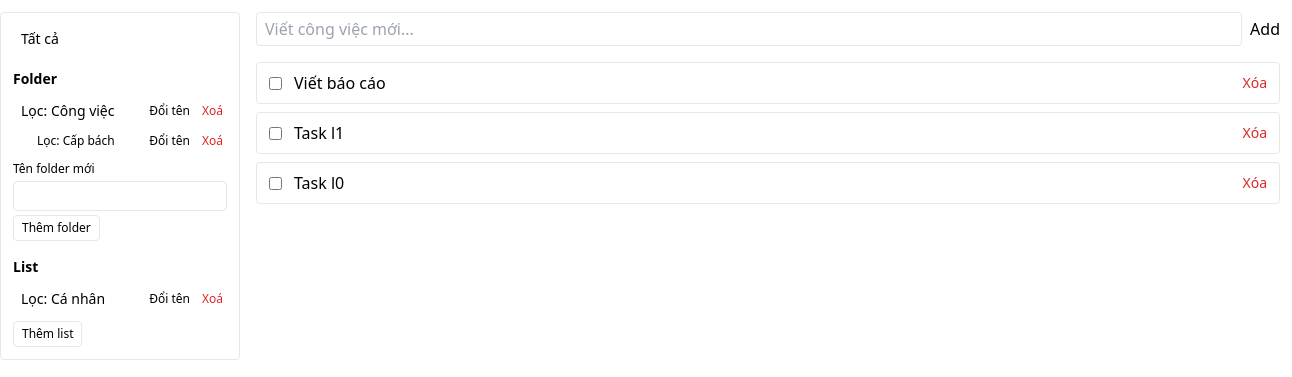
TasksWorkspace filter › bấm Tất cả trả về danh sách đầy đủ
Click the button "Lọc: Cấp bách" at point(85, 141), box [29, 129, 141, 153]
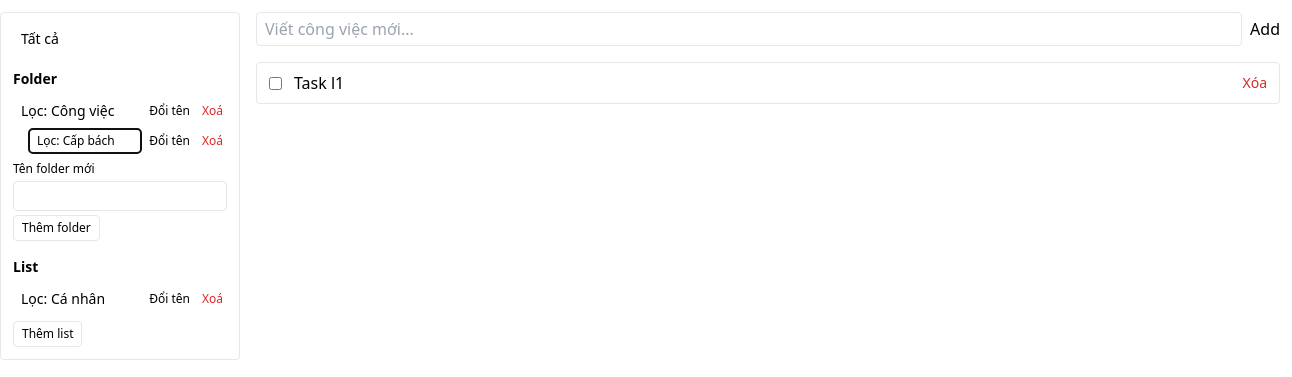
Click the button "Tất cả" at point(120, 39), box [13, 25, 227, 53]
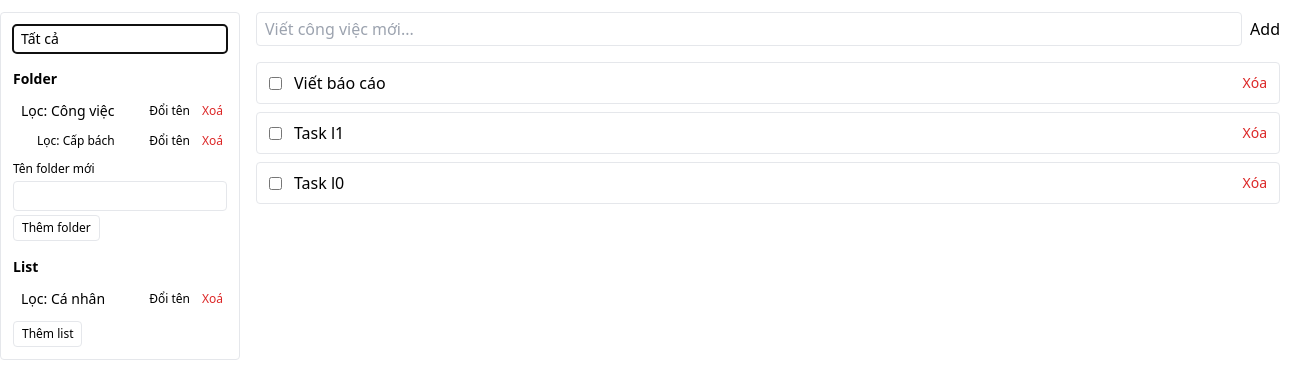
Expected: the text "Viết báo cáo" is shown, [294, 72, 386, 94]
Expected: the text "Task l0" is shown, [294, 172, 344, 194]
